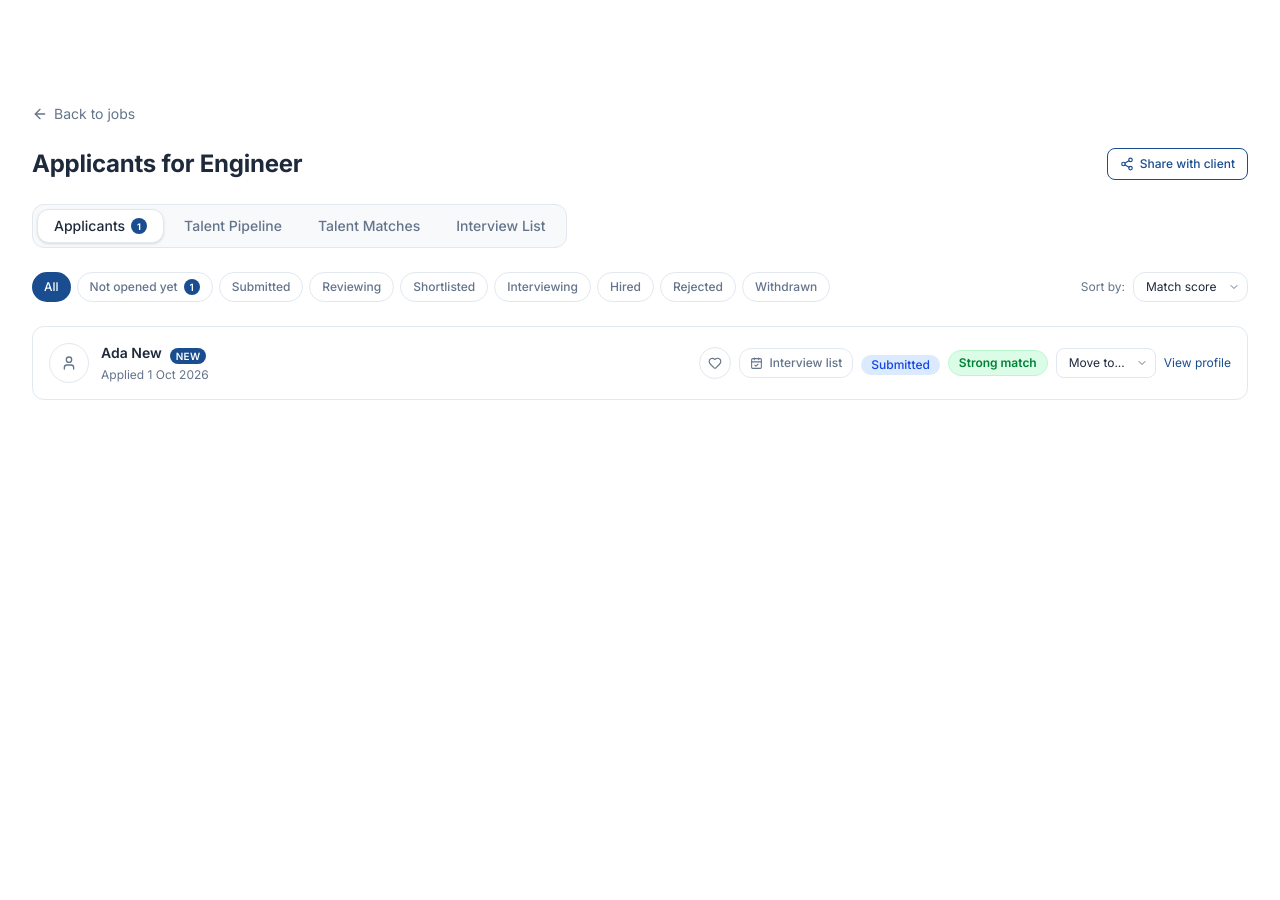
Test: ApplicantsPage, applicants not opened yet › counts an applicant as opened when their AI insight is read
Check: the text "Ada New" is shown, box [101,344,162,361]
Click the button with aria-label "Match score" at (998, 363), box [948,350,1048,376]
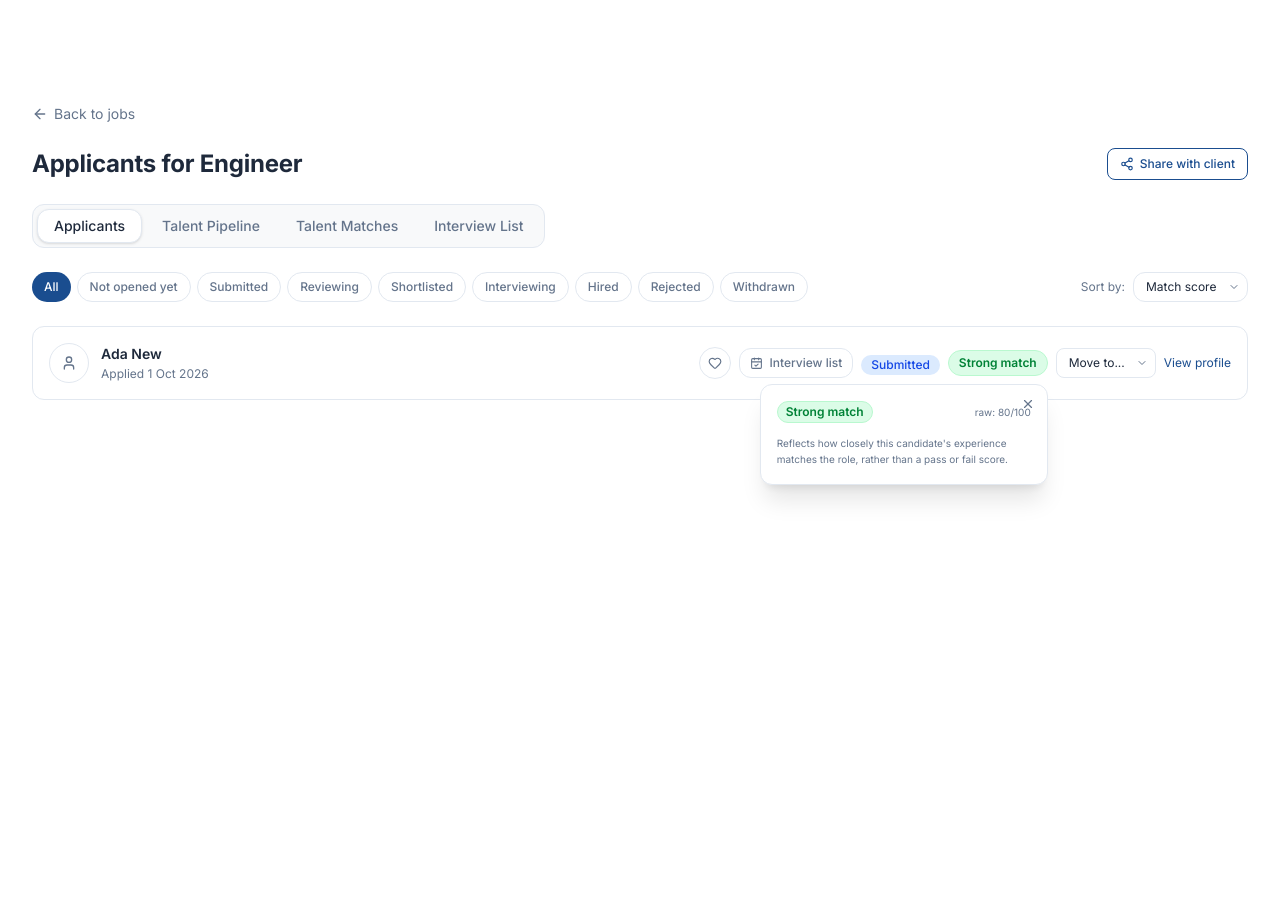
Check: the text with test id "new-badge" is gone
